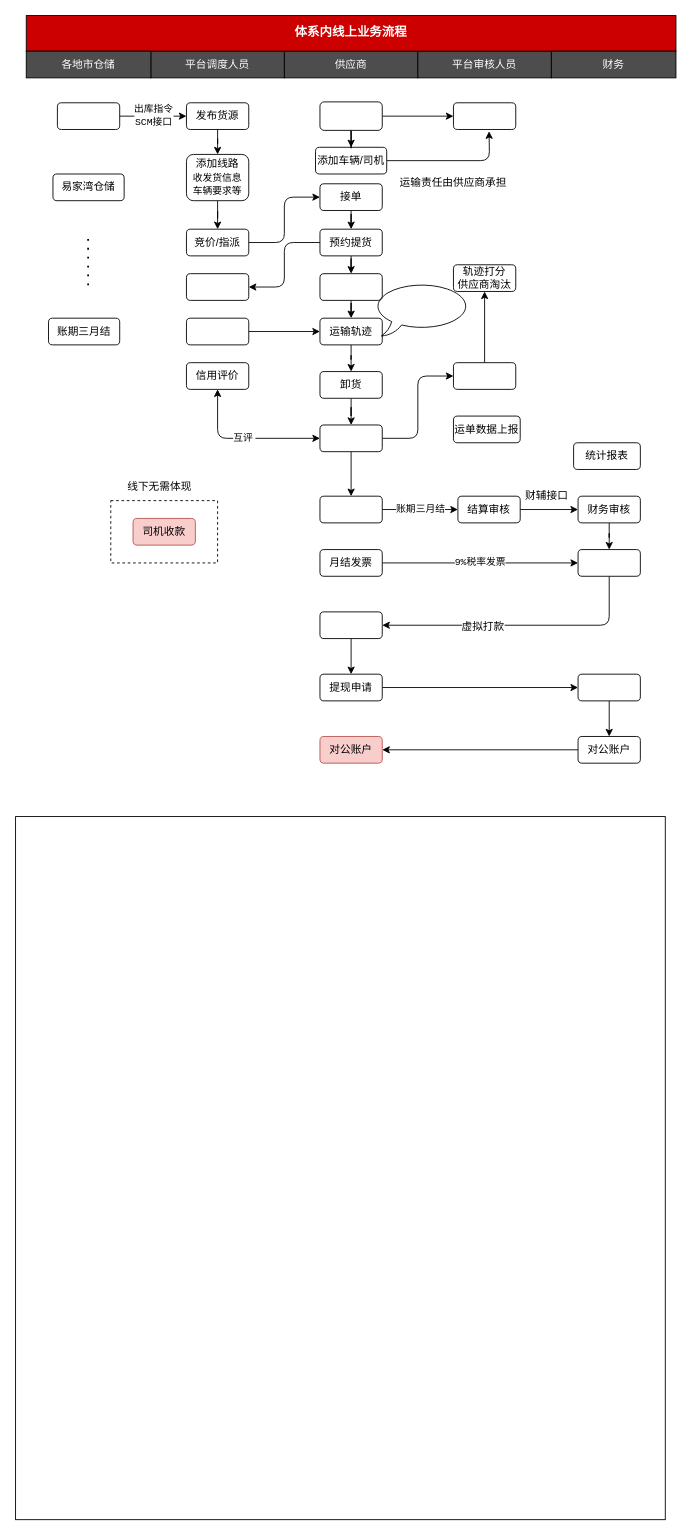
Some shapes in this 692 by 1535 pixel diagram are drawn without their labels. Here are the shapes that lost their labels. From the top down, the box of each, then its label:
(57, 102, 120, 129): 星沙仓储
(319, 101, 382, 130): 供应商认证
(453, 102, 516, 129): 资质审核
(186, 273, 249, 300): 预约确认
(319, 273, 382, 300): 提货装车
(372, 282, 471, 336): 轨迹每2h上传坐标
(186, 317, 249, 345): 轨迹监控
(453, 362, 516, 389): 回单审核 轨迹审核
(319, 424, 382, 452): 客户签收 回单上传
(319, 495, 382, 523): 结算申请
(577, 549, 640, 576): 财务虚拟打款
(319, 611, 382, 639): 供应商 平台账户
(577, 673, 640, 701): 提现审核
